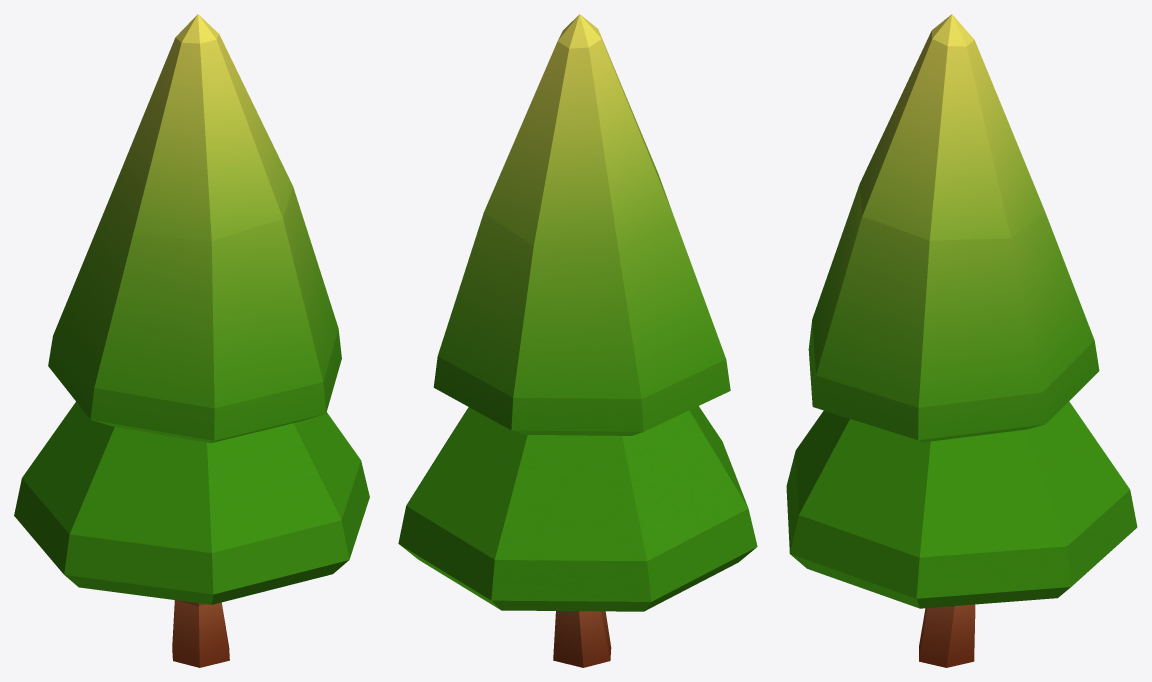
Rendered from Tree9.fbx.
3 views of the same model, side by side, from view 1: azimuth 30°, elevation 25°; view 2: azimuth 150°, elevation 25°; view 3: azimuth 270°, elevation 25° (orthographic).
Visible parts, largest first — view 1: tree_D2; view 2: tree_D2; view 3: tree_D2.
Part boxes in pixels (<box>): tree_D2: <box>14,14,369,667</box>; tree_D2: <box>398,14,757,667</box>; tree_D2: <box>786,14,1137,667</box>.
Size of the model in its own units: 100 by 197 by 98.13.
